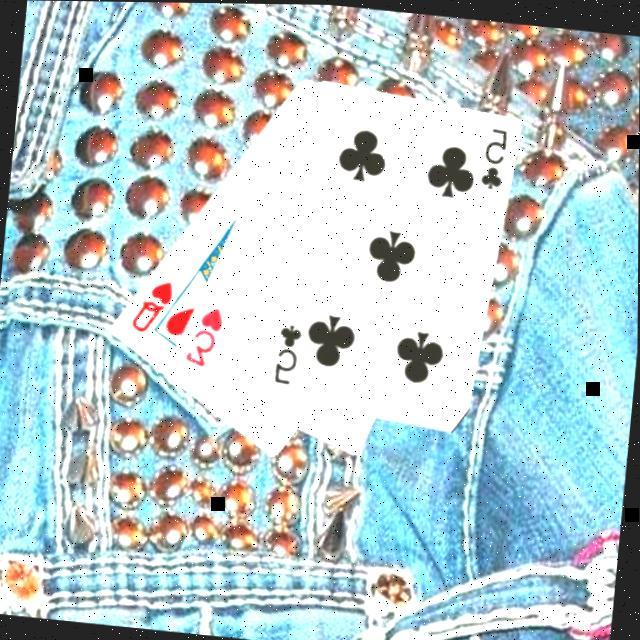3H: (182, 300, 228, 370)
5C: (478, 122, 513, 192), (272, 319, 308, 386)
QH: (128, 272, 178, 338)
